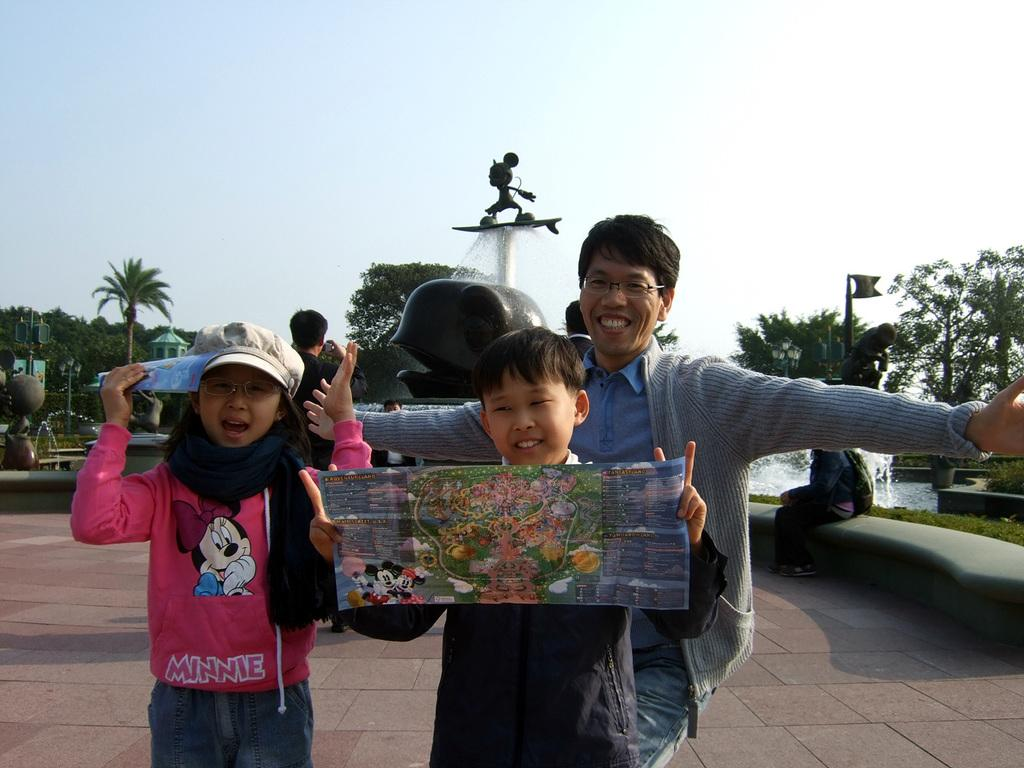Hat: (186, 319, 308, 401)
